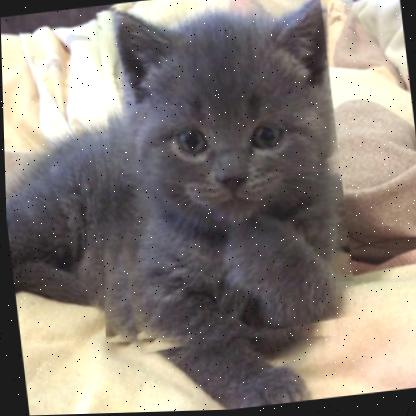cat: (74, 0, 360, 358)
